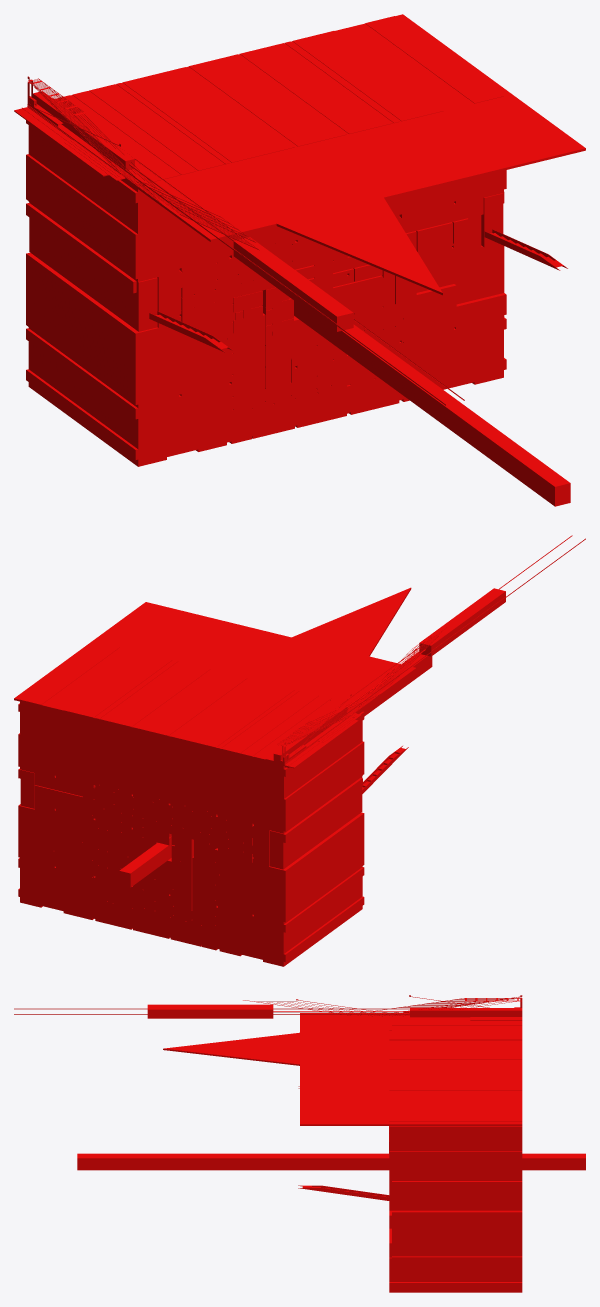
Rendered from Office.glb.
3 views of the same model, one above another, from view 1: azimuth 30°, elevation 25°; view 2: azimuth 150°, elevation 25°; view 3: azimuth 270°, elevation 25° (orthographic). The views are drawn at different scales.
Parts seen in each view (by area): view 1: mesh; view 2: mesh; view 3: mesh.
Part boxes in pixels (x1,y1,x2,y2): mesh: (14, 14, 585, 506); mesh: (14, 535, 585, 966); mesh: (14, 995, 585, 1292).
Size of the model in its own units: 52.36 by 39.97 by 110.
